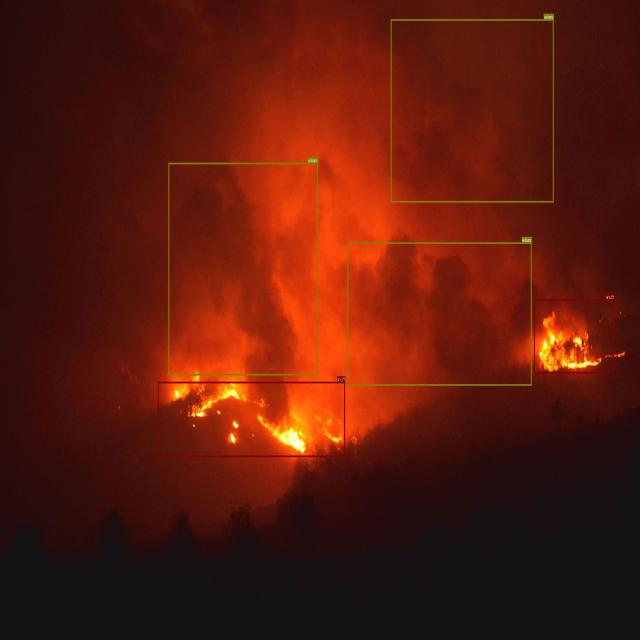fire: (158, 382, 345, 456), (534, 299, 614, 373)
smoke: (169, 162, 318, 375), (391, 19, 554, 202), (348, 242, 532, 385)
